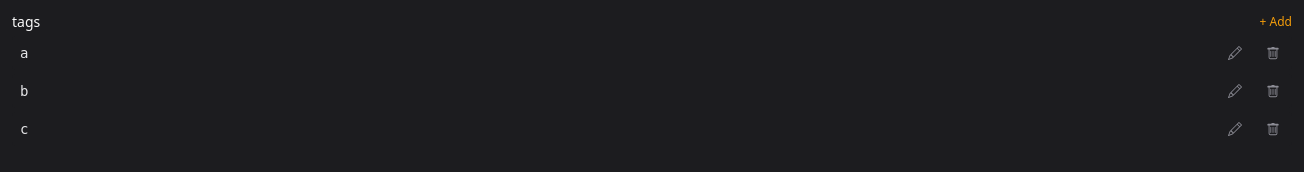
it: ListField with a controlled parent › keeps editing the last entry after an earlier one is removed
This screenshot has width=1304, height=172.
Click the button titled "Edit c": (1235, 129) x1=1220 y1=114 x2=1250 y2=144
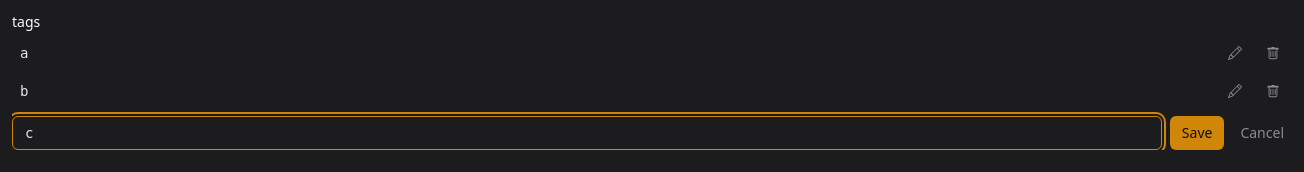
Click the button titled "Remove ": (1273, 53) x1=1258 y1=38 x2=1288 y2=68
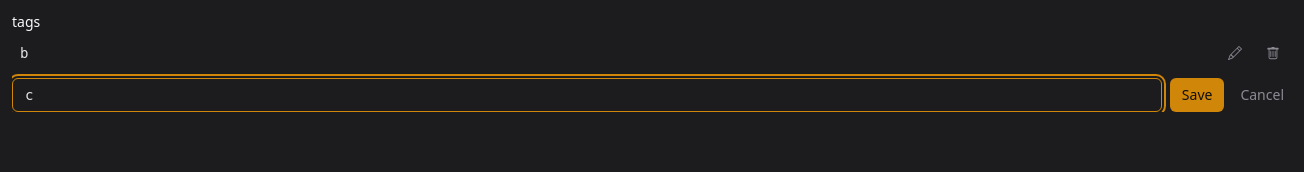
Replace the text in the field showing "c" with "x": (587, 95) x1=12 y1=78 x2=1162 y2=112
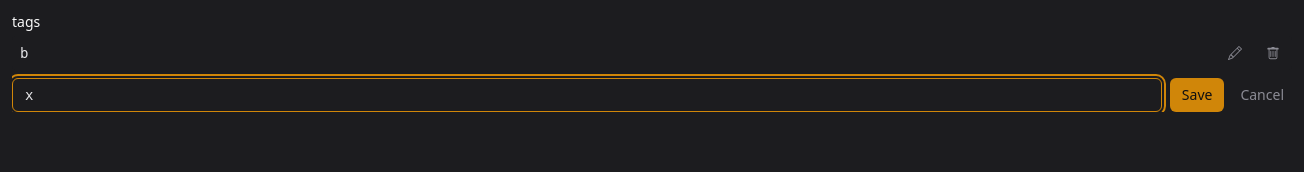
Click the button "Save": (1197, 95) x1=1170 y1=78 x2=1224 y2=112
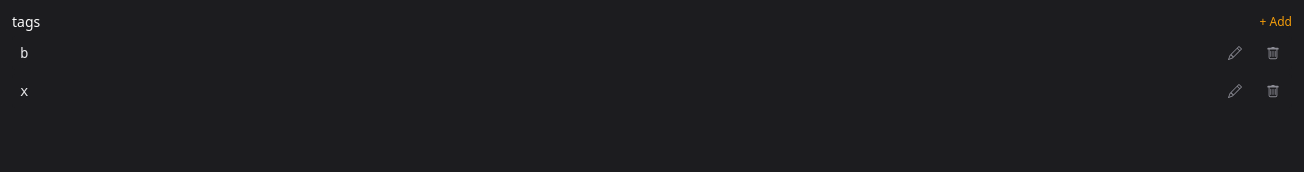
expect the text "b" is shown: met, box x1=20 y1=43 x2=28 y2=63
expect the text "x" is shown: met, box x1=20 y1=81 x2=28 y2=101
expect the button "C" is gone: met
